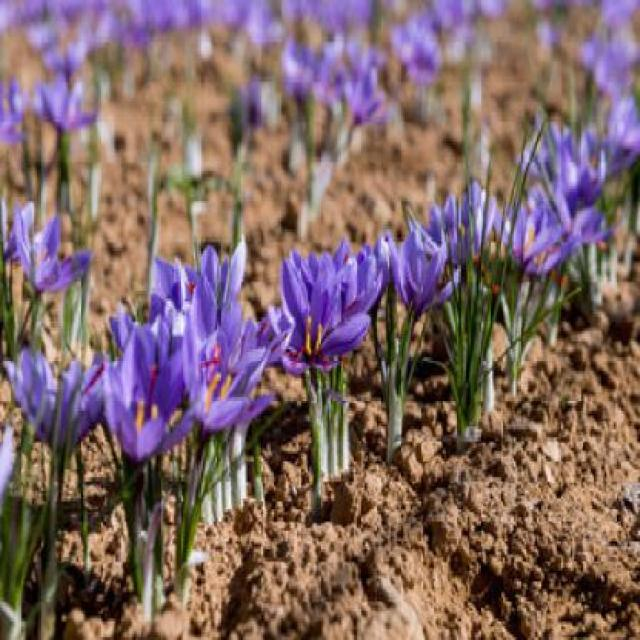Flower: (104, 323, 191, 477), (10, 344, 104, 467), (277, 259, 363, 383), (10, 204, 95, 302), (390, 222, 461, 324)
stigma: (142, 357, 164, 426)
